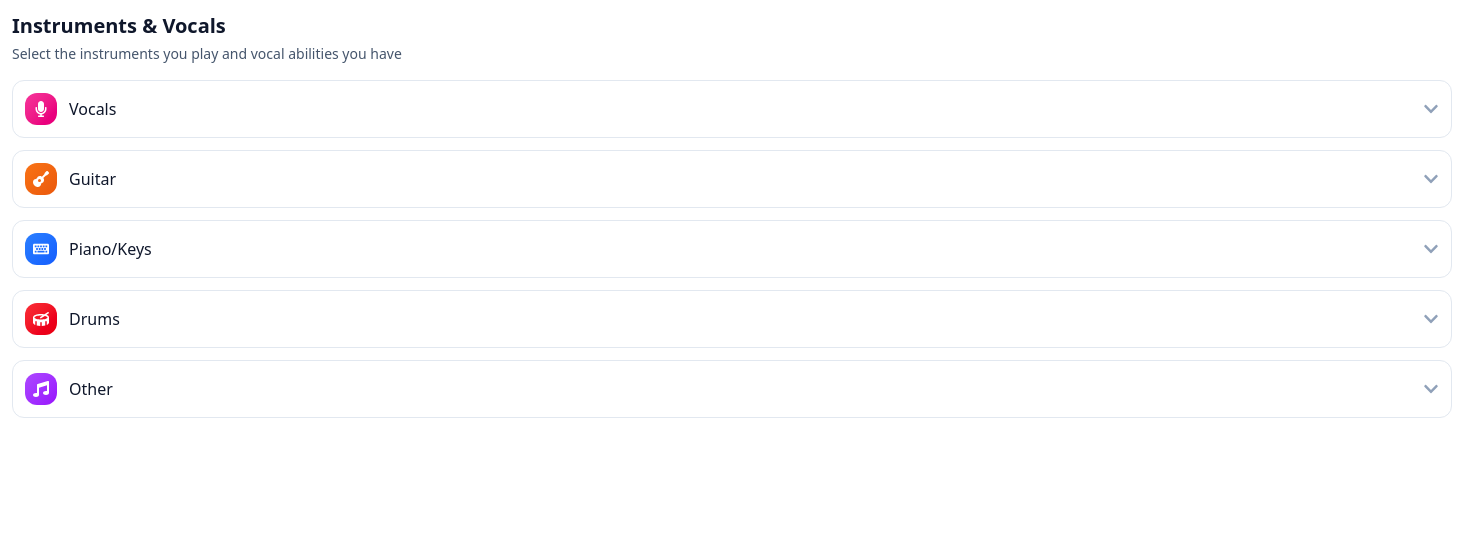
Test case: InstrumentSelector › Category Expansion › should expand category when clicked
Click the button with test id "category-drums": (41, 319) [13, 291, 1451, 347]
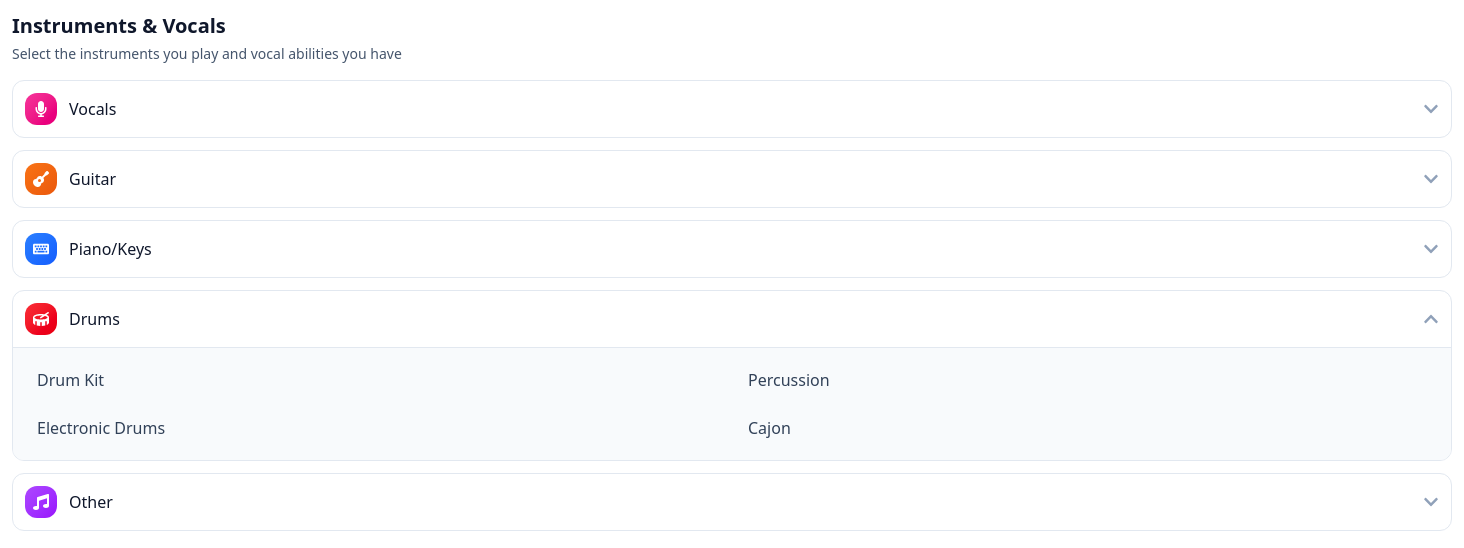
expect the checkbox "Drum Kit" is shown: met, box [25, 360, 728, 400]
expect the checkbox "Percussion" is shown: met, box [736, 360, 1439, 400]
